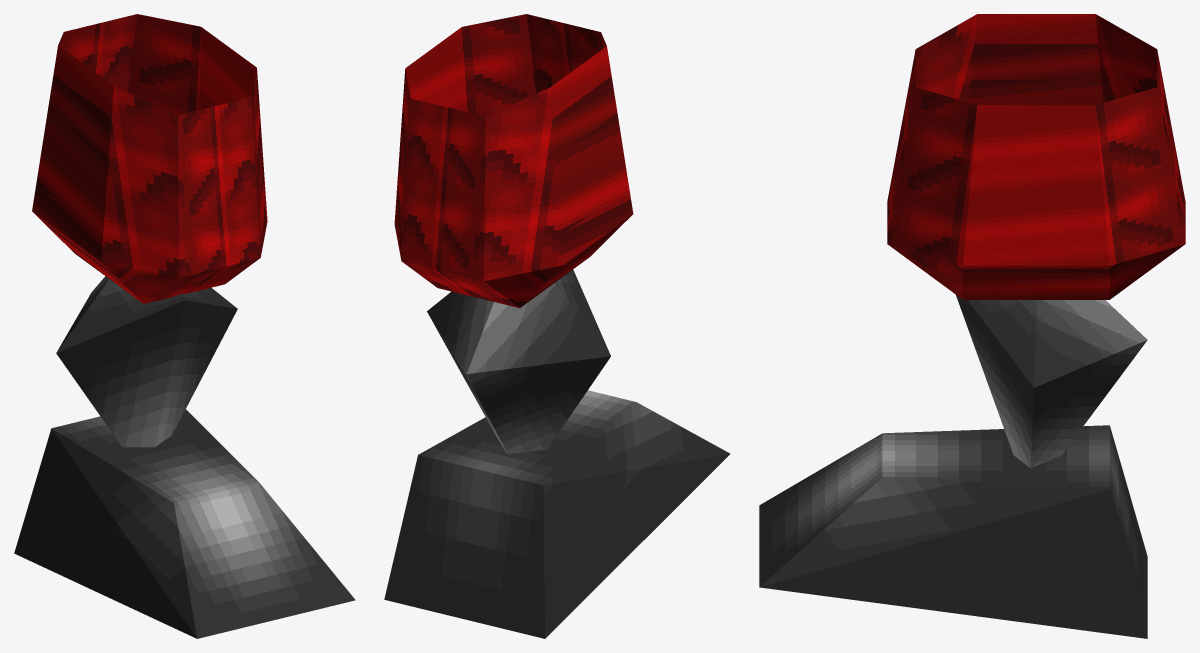
File: Peppy_piernaD.obj
3 renders of one model, left to right at view 1: azimuth 30°, elevation 25°; view 2: azimuth 150°, elevation 25°; view 3: azimuth 270°, elevation 25°, orthographic. The views are drawn at different scales.
Size of the model in its own units: 47 by 129 by 90.
